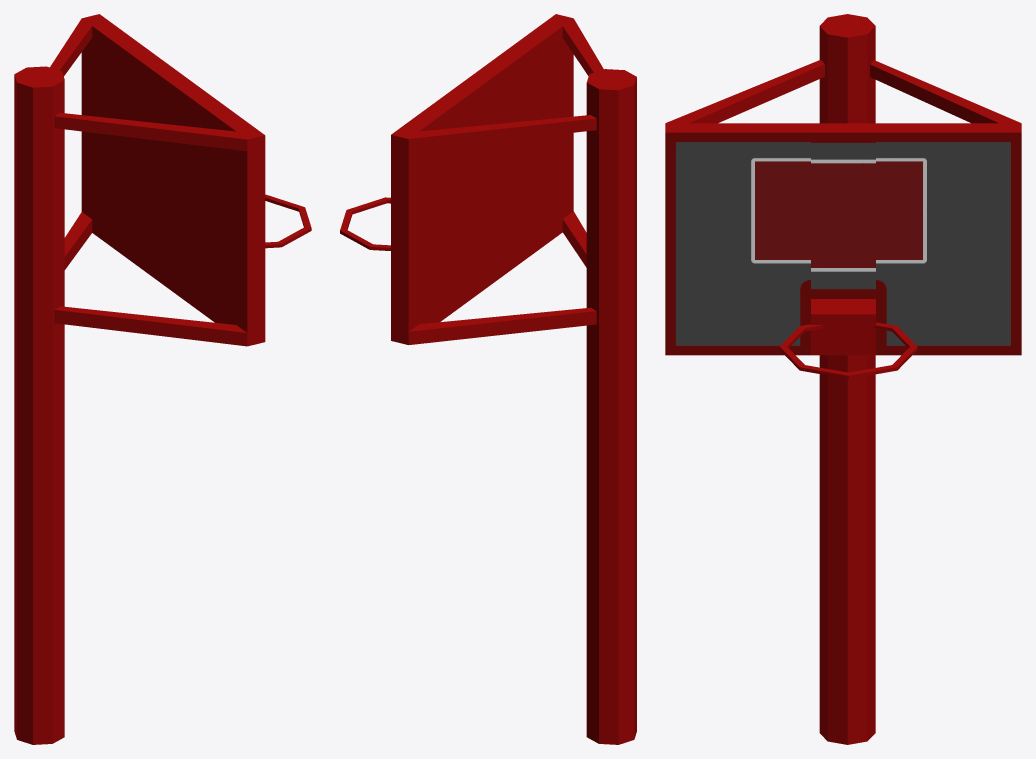
Rendered from Basketball Court V5.fbx.
The picture shows the model from 3 angles, left to right: view 1: azimuth 30°, elevation 25°; view 2: azimuth 150°, elevation 25°; view 3: azimuth 270°, elevation 25°; orthographic projection. The views are drawn at different scales.
Visible parts, largest first — view 1: Basket; view 2: Basket; view 3: Basket.
Part boxes in pixels (bbox=[...]): Basket: bbox=[14, 14, 311, 744]; Basket: bbox=[340, 14, 636, 744]; Basket: bbox=[665, 14, 1021, 744].
Size of the model in its own units: 27.96 by 60.85 by 27.8.
Materials: 2 (1 with a texture image).
